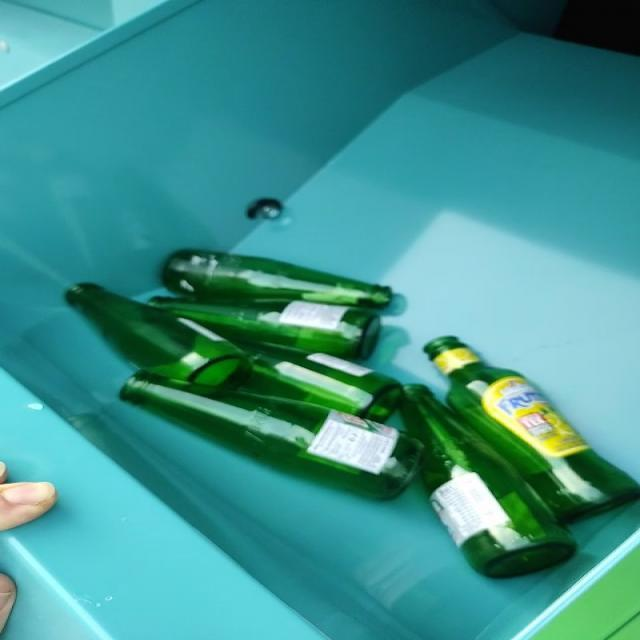Glass: (65, 250, 640, 578)
